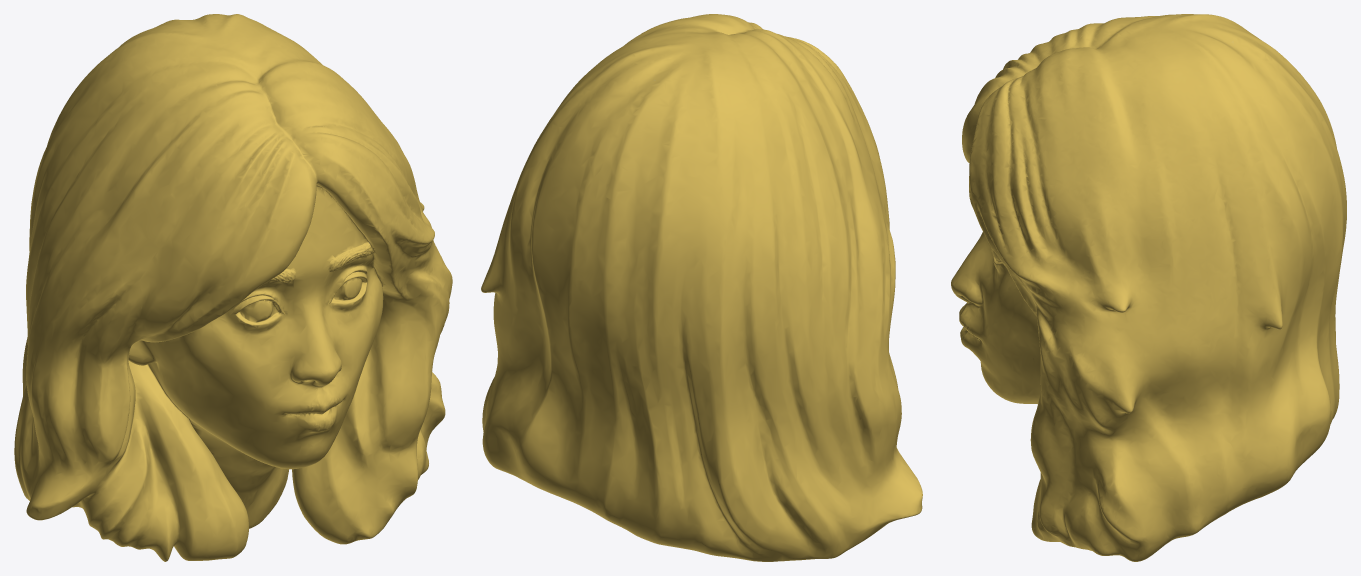
Rendered from Yuri_s.glb.
3 renders of one model, left to right at view 1: azimuth 30°, elevation 25°; view 2: azimuth 150°, elevation 25°; view 3: azimuth 270°, elevation 25°, orthographic. The views are drawn at different scales.
Size of the model in its own units: 1.54 by 1.75 by 1.33.
